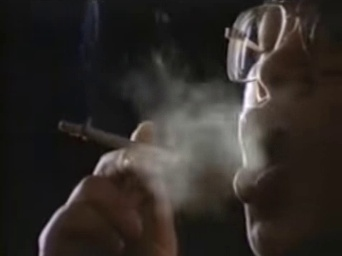smoke: (59, 119, 180, 170)
